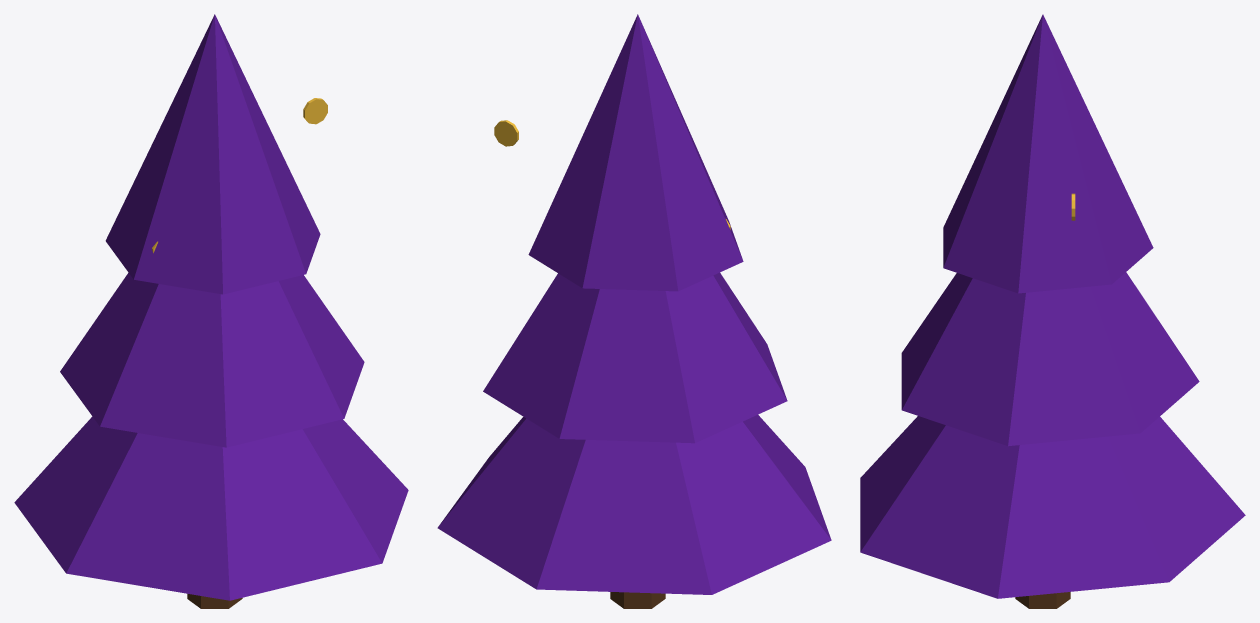
Rendered from Prop_OR_LedgerTree_12.glb.
3 renders of one model, left to right at view 1: azimuth 30°, elevation 25°; view 2: azimuth 150°, elevation 25°; view 3: azimuth 270°, elevation 25°, orthographic.
Parts seen in each view (by area): view 1: Prop_OR_LedgerTree_12; view 2: Prop_OR_LedgerTree_12; view 3: Prop_OR_LedgerTree_12.
Boxes of the visible parts, x1,y1,x2,y2 form: Prop_OR_LedgerTree_12: (14,14,408,608); Prop_OR_LedgerTree_12: (437,14,831,608); Prop_OR_LedgerTree_12: (860,14,1245,608).
Size of the model in its own units: 2.14 by 3.5 by 2.09.
